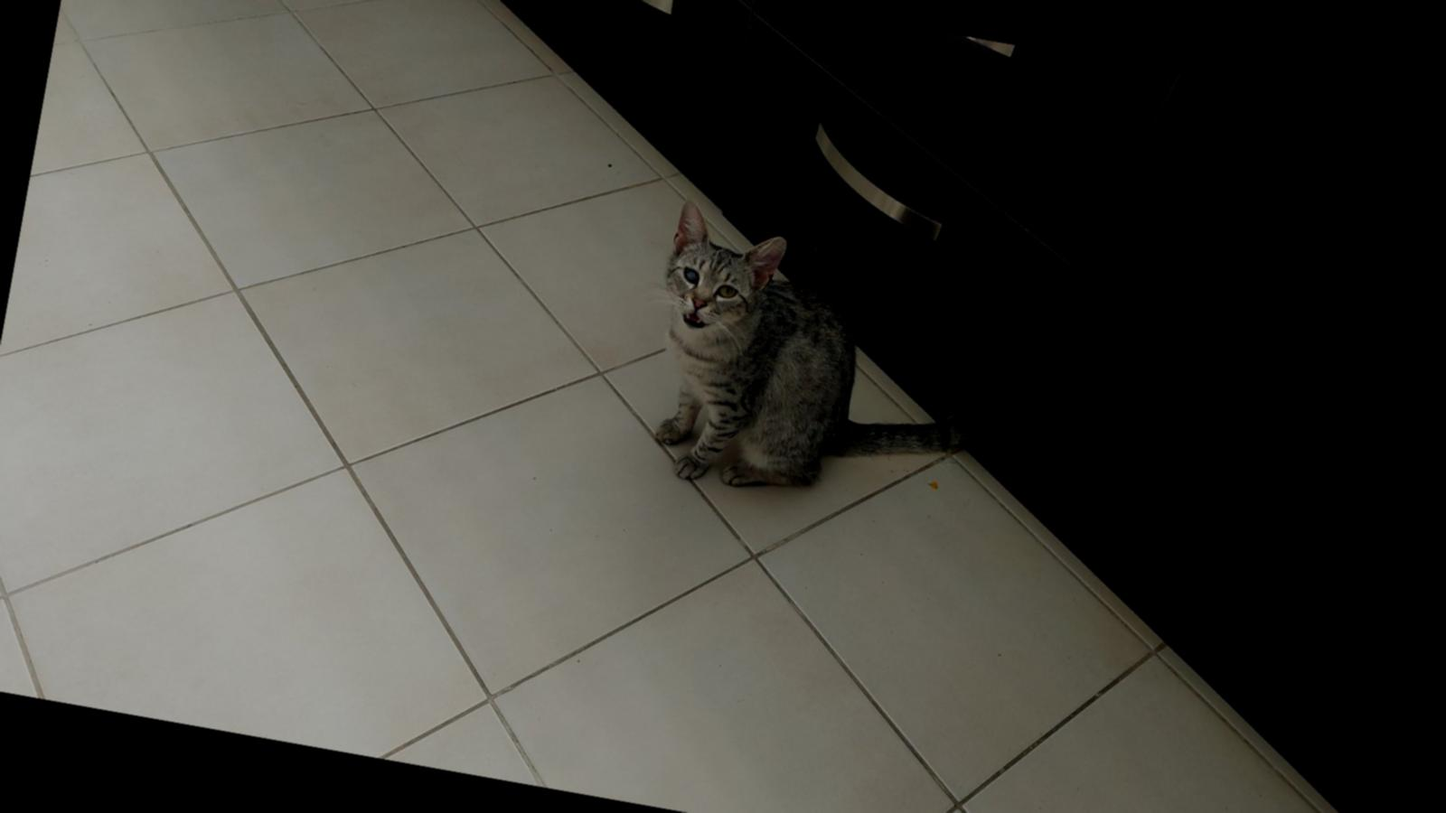macka: (631, 198, 1017, 531)
